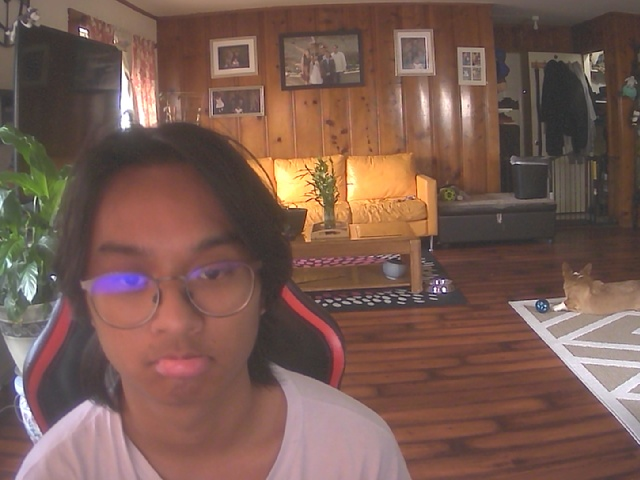sad: (80, 151, 270, 411)
